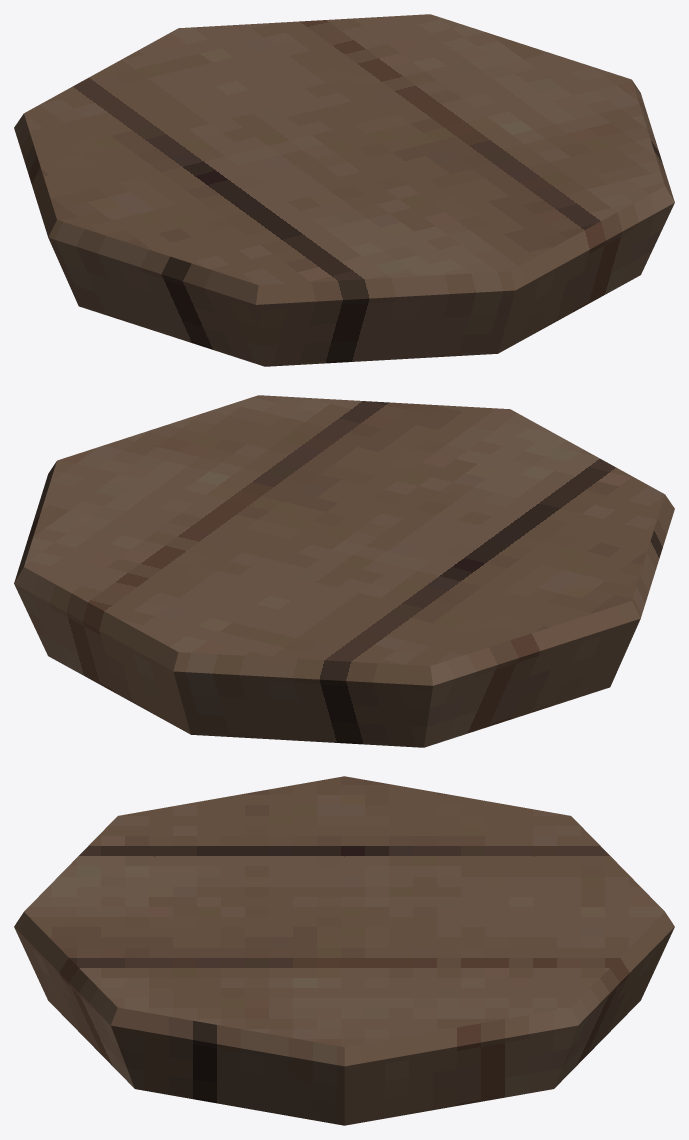
Rendered from vase_lid_small.glb.
The picture shows the model from 3 angles, top to bottom: view 1: azimuth 30°, elevation 25°; view 2: azimuth 150°, elevation 25°; view 3: azimuth 270°, elevation 25°; orthographic projection. The views are drawn at different scales.
Visible parts, largest first — view 1: vase_lid_small; view 2: vase_lid_small; view 3: vase_lid_small.
Boxes of the visible parts, box(x1,y1,x2,y2) form: vase_lid_small: box(14, 14, 674, 366); vase_lid_small: box(14, 395, 674, 747); vase_lid_small: box(14, 776, 674, 1125).
Size of the model in its own units: 0.4669 by 0.0691 by 0.4669.
Materials: 1 (1 with a texture image).
